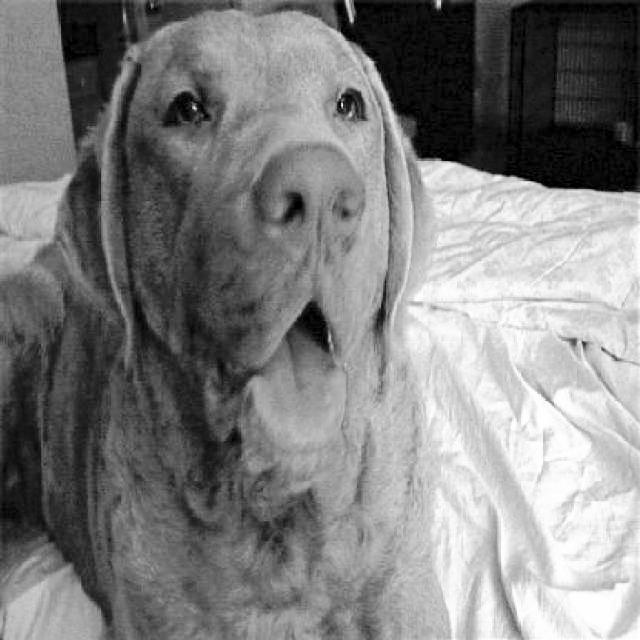Dog: (0, 4, 455, 640)
